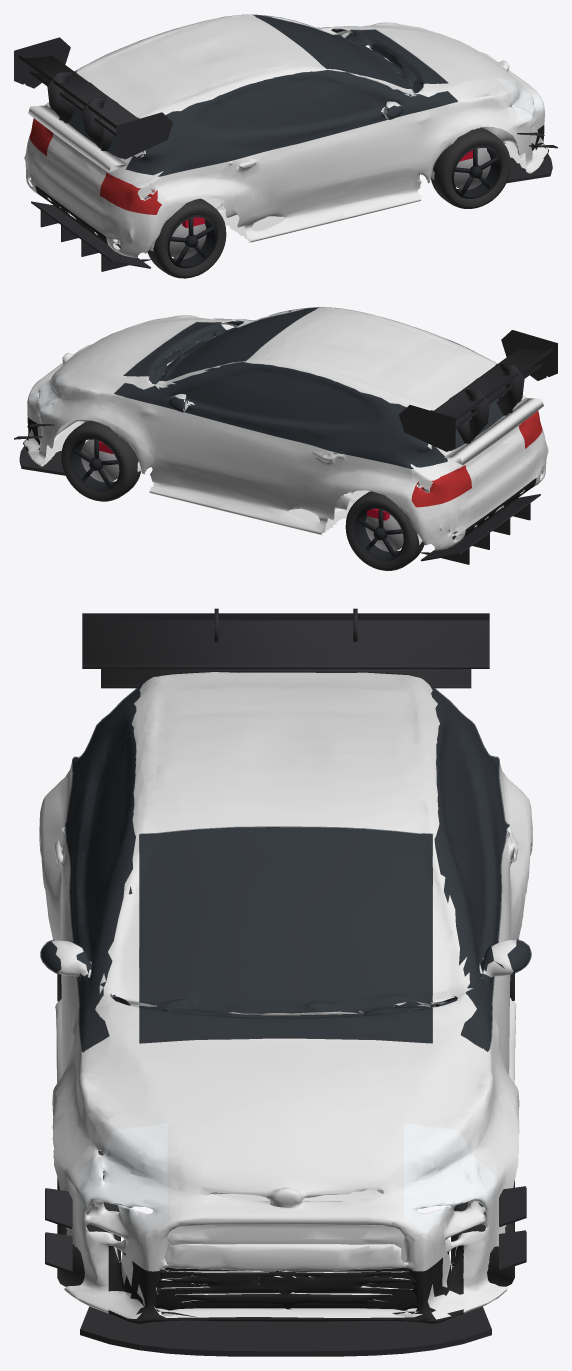
Rendered from toyota_gr_yaris.glb.
3 views of the same model, one above another, from view 1: azimuth 30°, elevation 25°; view 2: azimuth 150°, elevation 25°; view 3: azimuth 270°, elevation 25° (orthographic). The views are drawn at different scales.
Visible parts, largest first — view 1: body, cabin, bumper_rear, wing_rear_up3, wheel_fr_spin, bumper_front, wheel_rr_spin, diffuser, wing_rear, wing_rear_up2, splitter_up, splitter; view 2: body, cabin, bumper_rear, wing_rear_up3, wheel_fl_spin, bumper_front, wheel_rl_spin, diffuser, wing_rear, wing_rear_up2, splitter_up; view 3: body, cabin, bumper_front, wing_rear_up3, splitter_up, splitter, canards, wing_rear_up2, wheel_fl_spin, wheel_fr_spin.
Boxes of the visible parts, bbox=[...] form: body: bbox=[74, 15, 516, 242]; cabin: bbox=[50, 14, 457, 176]; bumper_rear: bbox=[24, 83, 169, 257]; wing_rear_up3: bbox=[14, 37, 172, 159]; wheel_fr_spin: bbox=[431, 127, 510, 208]; bumper_front: bbox=[416, 27, 548, 173]; wheel_rr_spin: bbox=[147, 198, 226, 278]; diffuser: bbox=[31, 201, 150, 271]; wing_rear: bbox=[28, 105, 127, 172]; wing_rear_up2: bbox=[25, 59, 116, 151]; splitter_up: bbox=[506, 154, 552, 183]; splitter: bbox=[509, 160, 545, 177]; body: bbox=[55, 307, 496, 535]; cabin: bbox=[114, 307, 521, 468]; bumper_rear: bbox=[401, 395, 548, 550]; wing_rear_up3: bbox=[399, 330, 557, 451]; wheel_fl_spin: bbox=[61, 420, 140, 501]; bumper_front: bbox=[23, 319, 157, 466]; wheel_rl_spin: bbox=[345, 491, 424, 570]; diffuser: bbox=[420, 494, 540, 564]; wing_rear: bbox=[444, 398, 543, 464]; wing_rear_up2: bbox=[455, 351, 546, 443]; splitter_up: bbox=[19, 446, 65, 475]; body: bbox=[39, 672, 532, 1193]; cabin: bbox=[40, 671, 531, 1051]; bumper_front: bbox=[62, 1101, 507, 1323]; wing_rear_up3: bbox=[82, 608, 489, 668]; splitter_up: bbox=[80, 1306, 491, 1356]; splitter: bbox=[87, 1309, 484, 1345]; canards: bbox=[45, 1186, 526, 1273]; wing_rear_up2: bbox=[101, 669, 471, 688]; wheel_fl_spin: bbox=[451, 1180, 514, 1286]; wheel_fr_spin: bbox=[57, 1150, 120, 1286].
Size of the model in its own units: 4.11 by 1.46 by 1.92.
